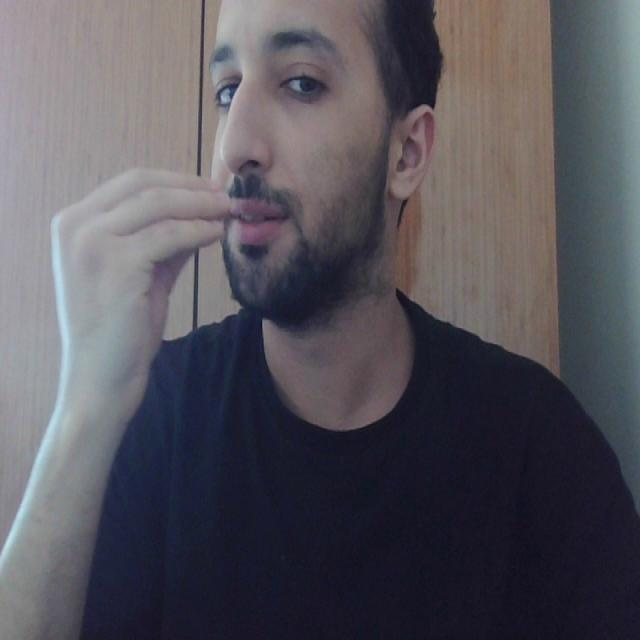Yemek: (36, 162, 272, 275)
